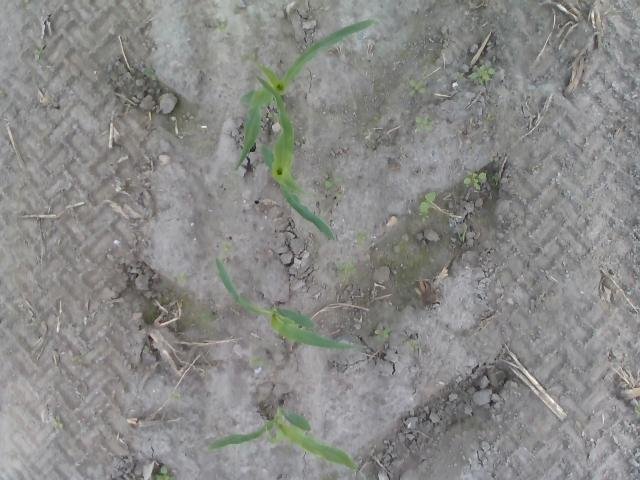Maize: (235, 16, 378, 176), (214, 252, 365, 356), (256, 74, 340, 244), (205, 406, 361, 470)
Weeds: (418, 191, 436, 223), (463, 169, 488, 191), (467, 64, 496, 81), (406, 79, 429, 98), (414, 115, 434, 134), (154, 464, 177, 480), (248, 356, 274, 370), (374, 327, 393, 342), (339, 262, 356, 276), (53, 415, 63, 432), (180, 111, 194, 123), (175, 272, 186, 286), (168, 390, 182, 400), (322, 180, 336, 190), (143, 66, 155, 77), (408, 339, 418, 352), (454, 70, 466, 80), (34, 48, 42, 63), (215, 24, 226, 34), (358, 232, 368, 242), (222, 241, 231, 252)
